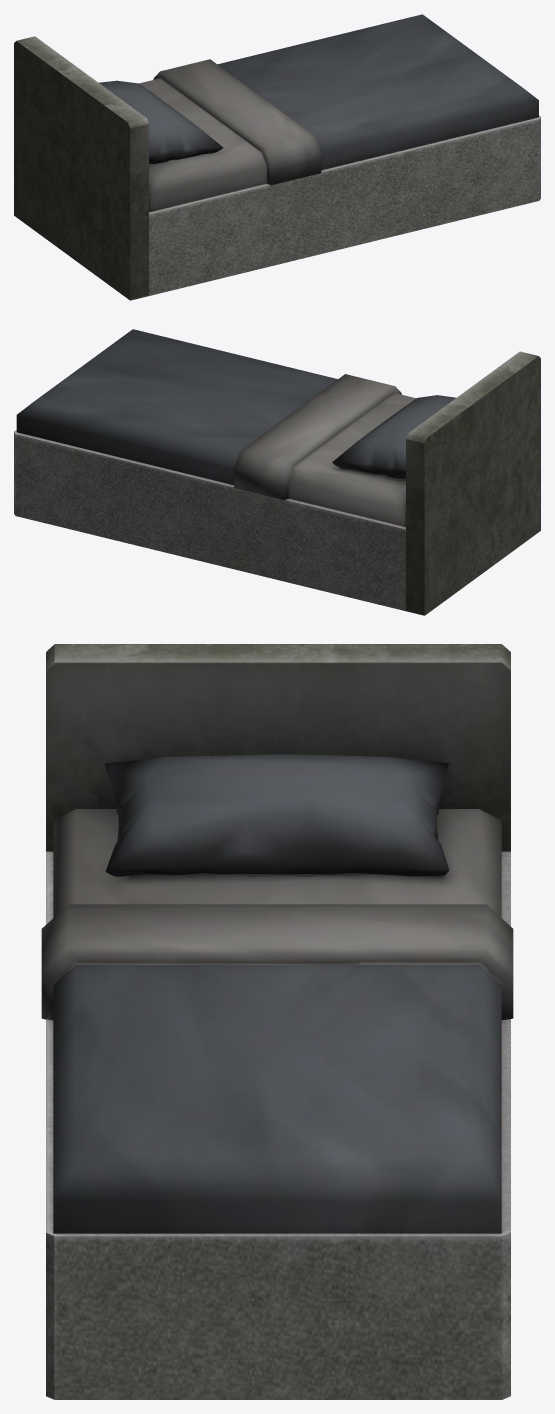
Rendered from bed_single02.glb.
The picture shows the model from 3 angles, top to bottom: view 1: azimuth 30°, elevation 25°; view 2: azimuth 150°, elevation 25°; view 3: azimuth 270°, elevation 25°; orthographic projection. The views are drawn at different scales.
Visible parts, largest first — view 1: single_bed02; view 2: single_bed02; view 3: single_bed02.
Part boxes in pixels (x1,y1,x2,y2): single_bed02: (14,14,540,300); single_bed02: (14,329,540,615); single_bed02: (41,644,513,1399).
Bounding box in the file's own units: 1.83 × 0.7476 × 0.9057.
1 material, 1 textured.
